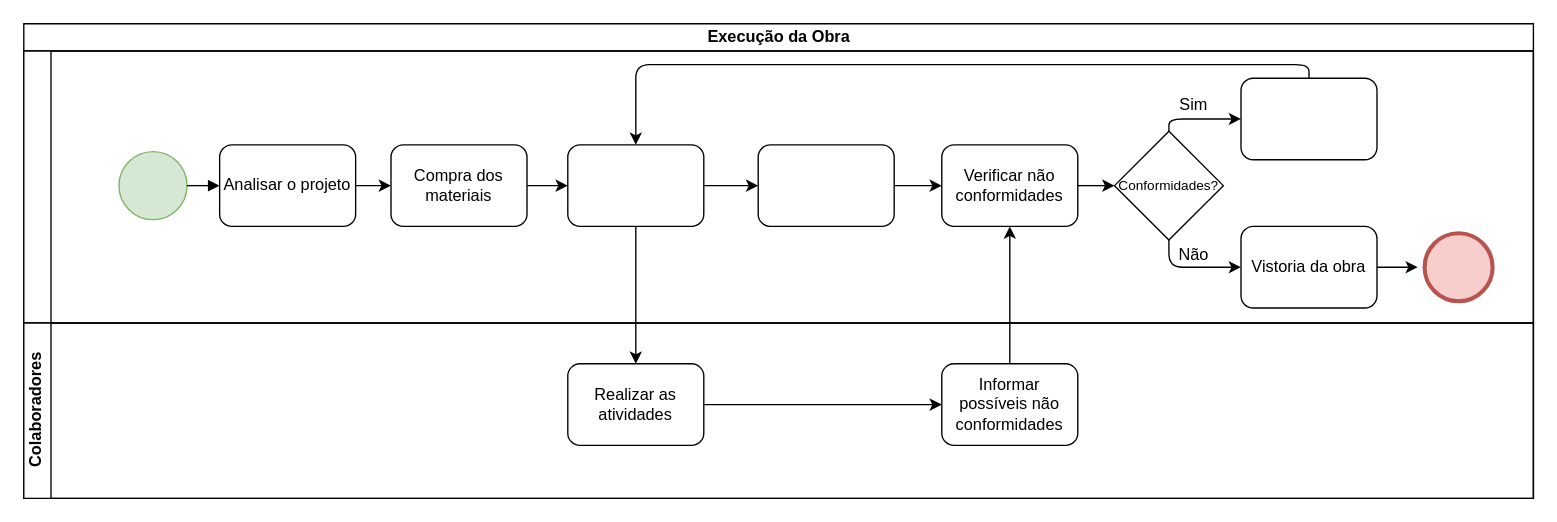
The diagram is 1557 pixels wide and 522 high, and some of its shapes have lost their labels. Each missing label, with the box of its shape:
Analisar Não conformidades: (1240, 77, 1377, 160)
Fiscalizar e Supervisionar: (757, 143, 894, 226)
Mestre de Obras: (22, 50, 1533, 323)
Programar as atividades: (566, 143, 704, 226)
